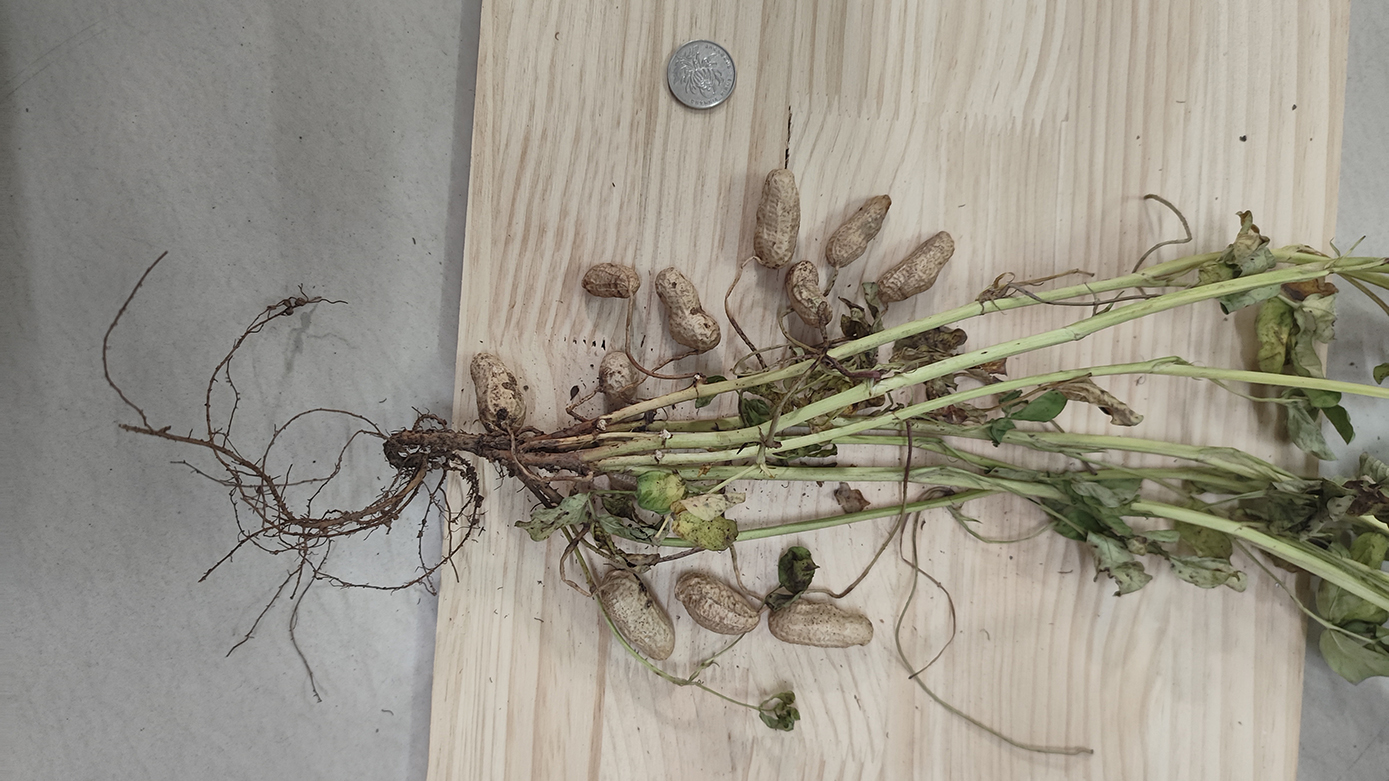h: (598, 567, 678, 660), (876, 231, 954, 306), (767, 596, 875, 650), (672, 572, 761, 637), (655, 265, 721, 348), (825, 193, 894, 266), (469, 352, 529, 433), (755, 170, 801, 269), (784, 259, 831, 324), (582, 261, 639, 303), (600, 351, 636, 407)
